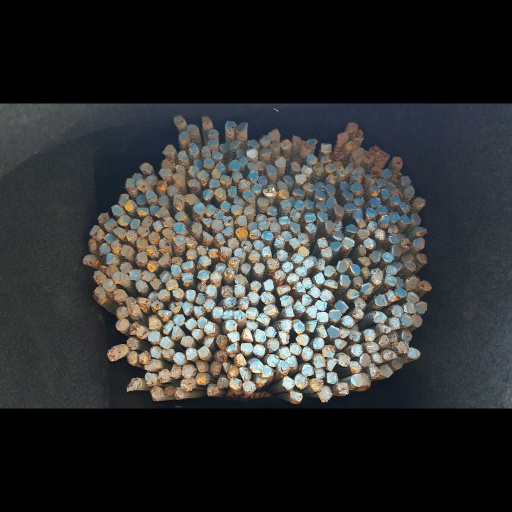dipstick: (294, 373, 308, 388), (242, 380, 256, 394), (317, 385, 331, 399), (180, 378, 195, 391), (126, 377, 142, 389), (234, 310, 246, 326), (364, 341, 380, 353), (369, 363, 381, 379), (106, 347, 119, 361), (158, 369, 171, 383), (380, 363, 393, 377), (278, 360, 290, 375), (292, 319, 304, 334), (301, 346, 313, 361), (157, 310, 173, 321), (144, 360, 160, 371), (93, 286, 106, 299), (256, 312, 269, 325), (229, 377, 242, 390), (239, 367, 252, 380), (227, 342, 240, 355), (259, 364, 272, 377), (268, 129, 281, 142), (296, 333, 309, 346), (310, 378, 323, 391), (313, 355, 326, 368), (322, 344, 335, 357), (337, 353, 350, 366), (161, 158, 175, 170), (115, 306, 129, 318), (127, 351, 139, 365), (145, 372, 157, 386), (170, 364, 182, 378), (195, 360, 209, 372), (249, 361, 263, 373), (282, 376, 294, 390), (242, 328, 254, 342), (320, 290, 334, 302), (335, 382, 349, 394), (351, 373, 363, 387), (93, 271, 105, 284), (159, 270, 172, 282), (159, 337, 172, 349), (127, 337, 139, 350), (185, 347, 197, 360), (204, 321, 216, 334), (169, 301, 182, 313), (173, 234, 185, 247), (216, 334, 228, 347), (267, 338, 279, 351), (173, 194, 185, 207), (313, 272, 325, 285), (335, 300, 348, 312), (327, 325, 340, 337), (289, 391, 302, 403), (384, 274, 397, 286), (375, 294, 388, 306), (373, 311, 386, 323), (400, 314, 413, 326), (388, 317, 400, 330), (135, 178, 149, 189), (111, 272, 125, 283), (115, 319, 129, 330), (171, 326, 182, 340), (181, 301, 192, 315), (278, 330, 289, 344), (418, 280, 432, 291), (383, 349, 398, 359), (146, 174, 158, 186), (119, 261, 131, 273), (147, 260, 159, 272), (149, 278, 161, 290), (158, 289, 170, 301), (138, 352, 150, 364), (150, 346, 162, 358), (182, 365, 194, 377), (173, 352, 185, 364), (227, 237, 239, 249), (225, 320, 237, 332), (246, 307, 258, 319), (248, 250, 260, 262), (253, 262, 265, 274), (261, 291, 273, 303), (215, 350, 227, 362), (253, 344, 265, 356), (267, 354, 279, 366), (264, 326, 276, 338), (193, 202, 205, 214), (280, 319, 292, 331), (278, 347, 290, 359), (289, 209, 301, 221), (294, 282, 306, 294), (294, 301, 306, 313), (329, 309, 341, 321), (305, 320, 317, 332), (289, 343, 301, 355), (285, 355, 297, 367), (351, 344, 363, 356), (363, 329, 375, 341), (354, 297, 366, 309), (413, 197, 425, 209), (413, 237, 425, 249), (406, 277, 418, 289), (391, 305, 403, 317), (408, 347, 420, 359), (391, 357, 403, 369), (139, 162, 152, 173), (140, 270, 153, 281), (136, 296, 149, 307), (165, 279, 178, 290), (148, 317, 159, 330), (136, 326, 147, 339), (151, 386, 162, 399), (207, 383, 218, 396), (210, 361, 221, 374), (181, 336, 194, 347), (198, 255, 211, 266), (203, 298, 214, 311), (223, 297, 236, 308), (255, 329, 266, 342), (187, 179, 200, 190), (236, 214, 247, 227), (266, 258, 279, 269), (279, 295, 292, 306), (286, 272, 299, 283), (308, 286, 321, 297), (316, 325, 327, 338), (327, 371, 338, 384), (359, 353, 370, 366), (334, 338, 347, 349), (361, 283, 374, 294), (352, 147, 365, 158), (368, 184, 379, 197), (411, 314, 422, 327), (377, 323, 390, 334), (378, 335, 389, 348), (276, 285, 290, 295), (163, 144, 175, 155), (118, 193, 129, 205), (125, 200, 136, 212), (152, 220, 163, 232), (137, 226, 149, 237), (104, 218, 115, 230), (113, 227, 125, 238), (83, 254, 95, 265), (136, 238, 148, 249), (136, 251, 147, 263), (106, 266, 118, 277), (103, 278, 114, 290), (135, 280, 146, 292), (113, 289, 125, 300), (128, 304, 140, 315), (148, 331, 160, 342), (198, 346, 210, 357), (173, 314, 185, 325), (185, 318, 197, 329), (181, 272, 193, 283), (157, 254, 169, 265), (172, 222, 184, 233), (205, 284, 216, 296), (221, 285, 232, 297), (190, 222, 202, 233), (238, 297, 249, 309), (223, 308, 234, 320), (248, 291, 259, 303), (263, 304, 275, 315), (247, 319, 258, 331), (236, 354, 247, 366), (263, 279, 274, 291), (167, 184, 178, 196), (224, 121, 236, 132), (215, 188, 226, 200), (235, 228, 247, 239), (282, 261, 293, 273), (249, 228, 261, 239), (314, 190, 326, 201), (342, 237, 354, 248), (336, 260, 347, 272), (349, 264, 360, 276), (347, 288, 359, 299), (306, 306, 317, 318), (342, 316, 354, 327), (301, 365, 313, 376), (313, 337, 324, 349), (350, 361, 361, 373), (352, 308, 364, 319), (363, 238, 375, 249), (369, 251, 381, 262), (350, 182, 362, 193), (399, 201, 410, 213), (388, 211, 399, 223), (375, 228, 386, 240), (404, 261, 416, 272), (371, 273, 382, 285), (406, 292, 418, 303), (416, 301, 427, 313), (397, 341, 408, 353), (162, 228, 175, 238), (110, 240, 120, 253), (162, 348, 175, 358), (227, 331, 240, 341), (201, 145, 211, 158), (325, 219, 335, 232), (324, 279, 337, 289), (358, 256, 371, 266), (394, 288, 407, 298), (303, 223, 317, 232), (149, 232, 160, 243), (126, 230, 137, 241), (90, 225, 101, 236), (129, 270, 140, 281), (196, 373, 207, 384), (195, 293, 206, 304), (185, 236, 196, 247), (240, 263, 251, 274), (234, 284, 245, 295), (241, 241, 252, 252), (212, 220, 223, 231), (203, 157, 214, 168), (229, 159, 240, 170), (231, 171, 242, 182), (220, 201, 231, 212), (223, 216, 234, 227), (186, 194, 197, 205), (274, 270, 285, 281), (276, 250, 287, 261), (274, 237, 285, 248), (247, 170, 258, 181), (260, 135, 271, 146), (275, 156, 286, 167), (280, 199, 291, 210), (301, 165, 312, 176), (289, 222, 300, 233), (289, 237, 300, 248), (314, 367, 325, 378), (327, 359, 338, 370), (349, 330, 360, 341), (400, 175, 411, 186), (403, 185, 414, 196), (410, 213, 421, 224), (401, 238, 412, 249), (416, 253, 427, 264), (159, 169, 171, 179), (145, 190, 157, 200), (118, 215, 130, 225), (106, 253, 116, 265), (121, 244, 131, 256), (151, 301, 163, 311), (130, 322, 140, 334), (217, 378, 229, 388), (173, 288, 185, 298), (186, 289, 196, 301), (197, 270, 209, 280), (213, 306, 223, 318), (174, 211, 186, 221), (234, 274, 246, 284), (250, 280, 260, 292), (205, 204, 215, 216), (173, 115, 185, 125), (189, 143, 199, 155), (207, 139, 219, 149), (202, 189, 214, 199), (242, 189, 254, 199), (252, 240, 264, 250), (284, 306, 294, 318), (246, 148, 258, 158), (280, 139, 292, 149), (276, 180, 288, 190), (306, 154, 318, 164), (324, 163, 336, 173), (315, 201, 327, 211), (326, 196, 336, 208), (304, 212, 316, 222), (333, 205, 343, 217), (294, 266, 306, 276), (324, 265, 334, 277), (358, 229, 370, 239), (392, 157, 402, 169), (382, 252, 394, 262), (389, 233, 401, 243), (404, 303, 416, 313), (88, 237, 97, 250), (261, 231, 274, 240), (257, 197, 270, 206), (125, 178, 135, 189), (158, 195, 169, 205), (111, 204, 121, 215), (98, 212, 109, 222), (99, 243, 110, 253), (146, 245, 157, 255), (148, 291, 159, 301), (192, 329, 203, 339), (197, 317, 207, 328), (170, 264, 180, 275), (186, 249, 197, 259), (210, 271, 221, 281), (215, 262, 226, 272), (202, 231, 213, 241), (216, 233, 226, 244), (220, 246, 231, 256), (241, 343, 252, 353), (172, 173, 183, 183), (187, 124, 198, 134), (237, 122, 248, 132), (197, 170, 208, 180), (220, 175, 231, 185), (239, 179, 250, 189), (281, 231, 292, 241), (266, 206, 277, 216), (266, 164, 276, 175), (283, 175, 294, 185), (278, 188, 289, 198), (295, 174, 306, 184), (300, 141, 310, 152), (337, 132, 348, 142), (303, 182, 314, 192), (298, 246, 309, 256), (303, 258, 313, 269), (302, 277, 312, 288), (315, 259, 325, 270), (321, 246, 331, 257), (331, 241, 342, 251), (301, 294, 312, 304), (317, 312, 328, 322), (361, 267, 371, 278), (357, 244, 367, 255), (352, 208, 362, 219), (365, 208, 376, 218), (342, 191, 353, 201), (381, 168, 392, 178), (370, 197, 381, 207), (377, 205, 388, 215), (392, 245, 402, 256), (386, 265, 397, 275), (386, 291, 397, 301), (402, 330, 412, 341), (371, 166, 382, 176), (136, 207, 148, 216), (233, 248, 245, 257), (212, 150, 224, 159), (243, 206, 255, 215), (278, 216, 290, 225), (259, 148, 271, 157), (292, 188, 304, 197), (291, 253, 303, 262), (331, 231, 343, 240), (353, 276, 362, 288), (345, 224, 357, 233), (292, 135, 301, 147), (414, 227, 426, 236), (157, 180, 167, 190), (136, 194, 146, 204), (149, 205, 159, 215), (165, 386, 175, 396), (182, 260, 192, 270), (209, 248, 219, 258), (211, 169, 221, 179), (270, 223, 280, 233), (290, 161, 300, 171), (321, 143, 331, 153), (347, 122, 357, 132), (325, 184, 335, 194), (304, 199, 314, 209), (297, 233, 307, 243), (353, 130, 363, 140), (390, 195, 400, 205), (141, 216, 152, 225), (156, 207, 167, 216), (125, 297, 136, 306), (197, 245, 208, 254), (188, 166, 199, 175), (228, 186, 237, 197), (231, 205, 242, 214), (262, 246, 271, 257), (258, 221, 269, 230), (314, 182, 325, 191), (316, 212, 327, 221), (317, 238, 328, 247), (340, 275, 349, 286), (364, 151, 375, 160), (247, 139, 259, 147), (344, 202, 356, 210), (130, 219, 140, 228), (162, 217, 172, 226), (104, 233, 113, 243), (159, 238, 169, 247), (225, 268, 234, 278), (177, 150, 186, 160), (179, 131, 189, 140), (230, 140, 240, 149), (193, 159, 202, 169), (209, 178, 219, 187), (247, 162, 257, 171), (258, 175, 267, 185), (314, 163, 324, 172), (294, 200, 304, 209), (381, 189, 390, 199), (365, 174, 374, 184), (400, 215, 410, 224), (194, 306, 205, 314), (256, 214, 267, 222), (251, 185, 262, 193), (326, 174, 337, 182), (353, 197, 364, 205), (351, 171, 362, 179), (207, 129, 219, 136), (175, 164, 184, 173), (220, 143, 229, 152), (202, 115, 210, 125), (320, 156, 331, 163)
